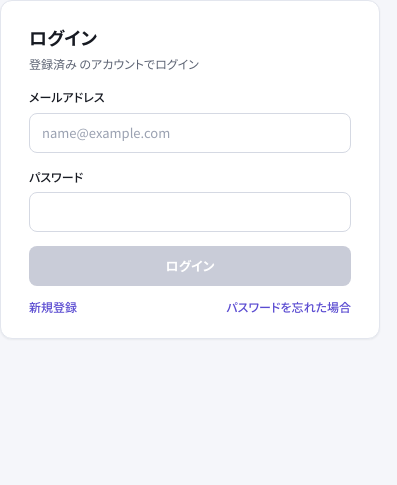
Test case: self registration › sends unconfirmed users to the code step on sign-in
In the field labelled "メールアドレス": x=190, y=133 [29,113,351,153], type "alice@example.com"
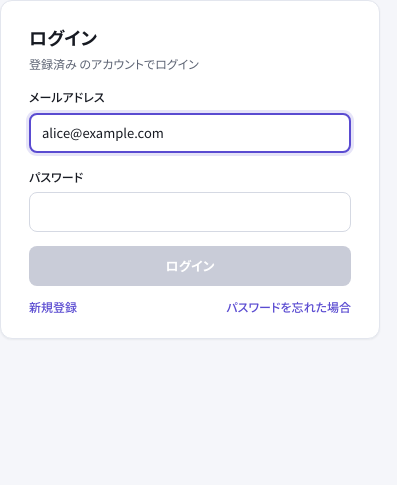
In the password field labelled "パスワード": x=190, y=212 [29,192,351,232], type "pw"
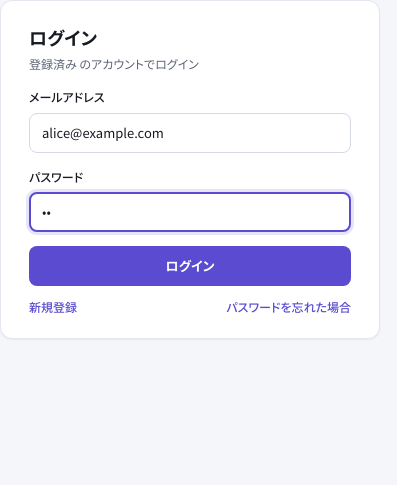
Click the button "ログイン": x=190, y=266 [29,246,351,286]
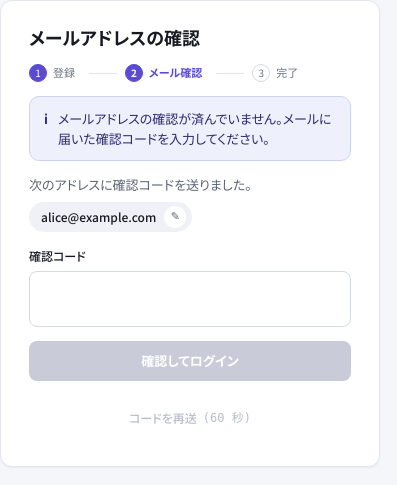
Check: the button "確認してログイン" is shown, box [29,341,351,381]
